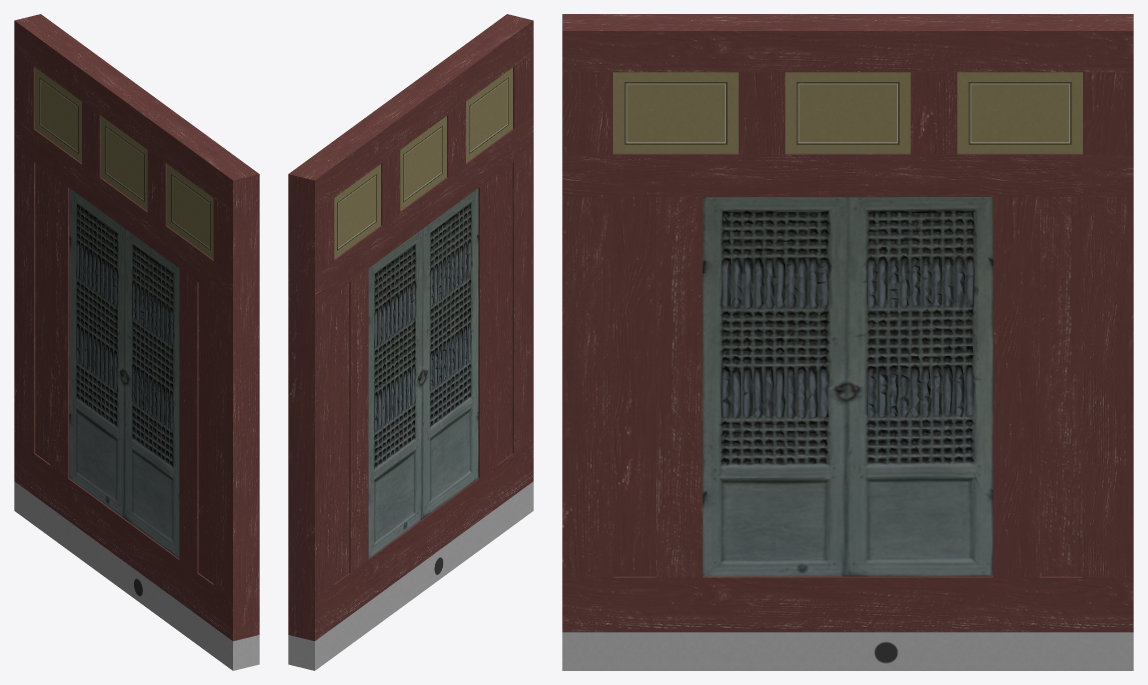
File: SM_Sun_Dae_Wall_B.fbx
The picture shows the model from 3 angles, left to right: view 1: azimuth 30°, elevation 25°; view 2: azimuth 150°, elevation 25°; view 3: azimuth 270°, elevation 25°; orthographic projection. The views are drawn at different scales.
Parts seen in each view (by area): view 1: SM_Sun_Dae_Wall_B; view 2: SM_Sun_Dae_Wall_B; view 3: SM_Sun_Dae_Wall_B.
Part boxes in pixels (left/top/right/bottom): SM_Sun_Dae_Wall_B: left=14, top=14, right=259, bottom=670; SM_Sun_Dae_Wall_B: left=288, top=14, right=533, bottom=670; SM_Sun_Dae_Wall_B: left=562, top=14, right=1133, bottom=670.
Size of the model in its own units: 20 by 354 by 286.
